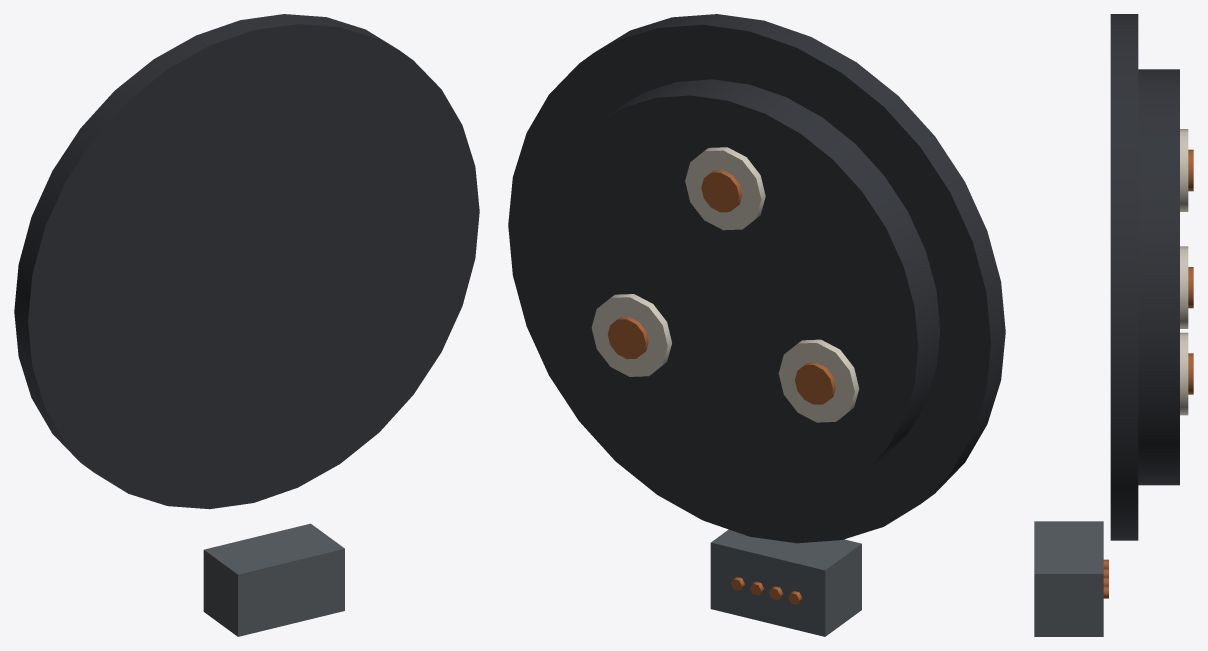
Rendered from sr150_bus_coupling.obj.
The picture shows the model from 3 angles, left to right: view 1: azimuth 30°, elevation 25°; view 2: azimuth 150°, elevation 25°; view 3: azimuth 270°, elevation 25°; orthographic projection. The views are drawn at different scales.
Parts seen in each view (by area): view 1: sr150_bus_coupling; view 2: sr150_bus_coupling; view 3: sr150_bus_coupling.
Part boxes in pixels (x1,y1,x2,y2): sr150_bus_coupling: [14, 14, 479, 636]; sr150_bus_coupling: [508, 14, 1005, 636]; sr150_bus_coupling: [1034, 14, 1193, 636].
Size of the model in its own units: 0.76 by 0.91 by 0.23.
